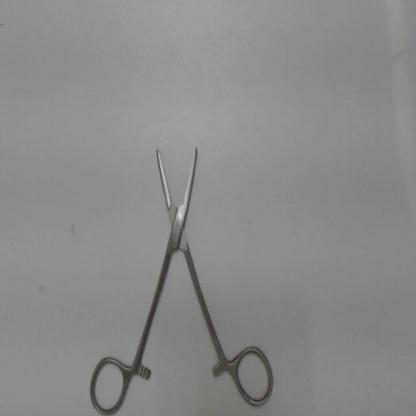Mayo Needle Holder: (79, 133, 280, 414)
